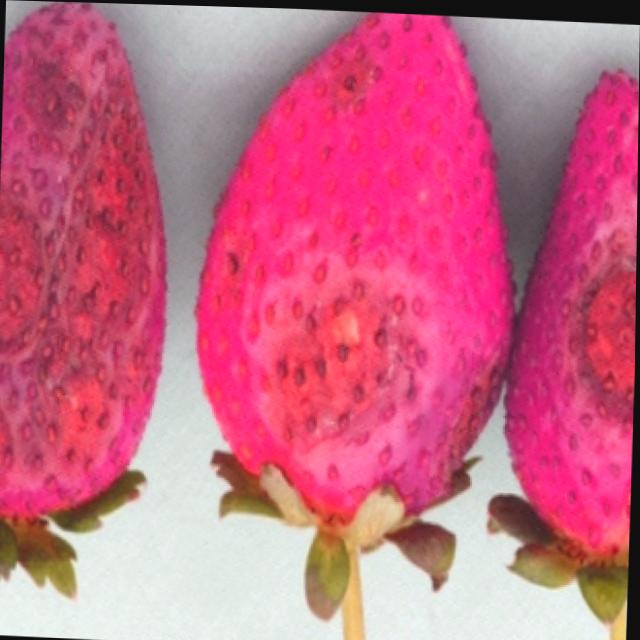Anthracnose Fruit Rot: (209, 47, 509, 496), (0, 1, 167, 516), (548, 230, 637, 442)
